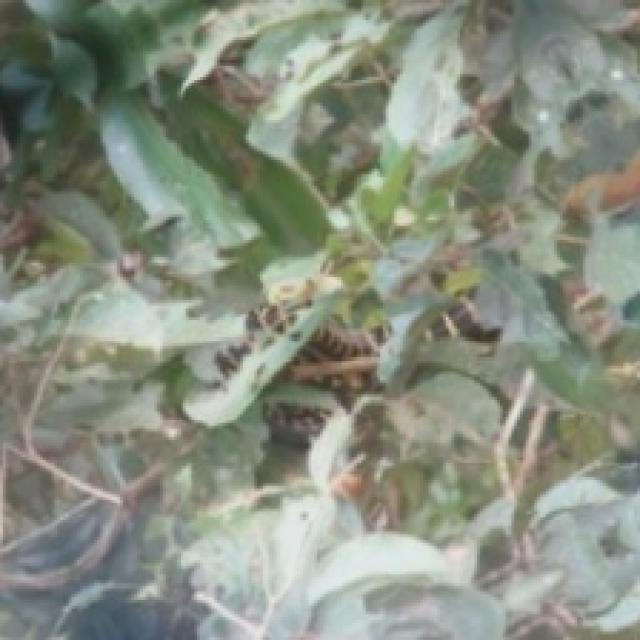mangrove cat snake: (274, 294, 500, 400), (197, 277, 337, 420)
